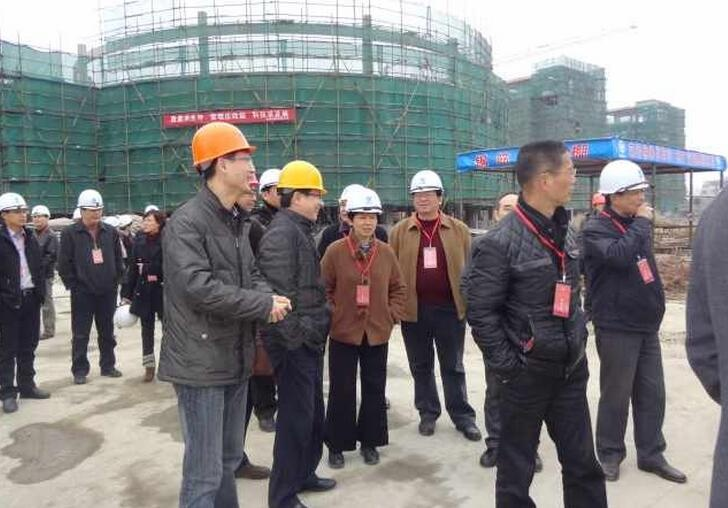none: (511, 137, 580, 214), (140, 208, 166, 238)
white: (597, 154, 651, 217), (406, 168, 448, 219), (345, 188, 383, 239), (76, 185, 104, 226), (1, 192, 27, 230), (28, 203, 49, 231)
yellow: (185, 116, 256, 191), (276, 158, 325, 223)
